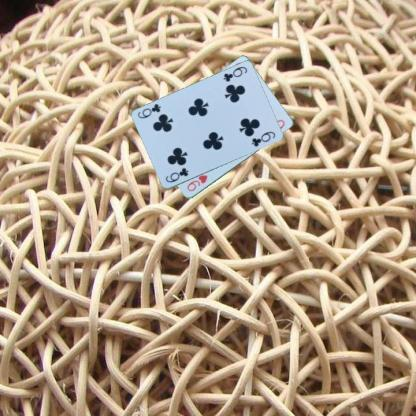6c: (221, 64, 248, 83), (162, 166, 190, 184)
9h: (184, 173, 209, 193)
